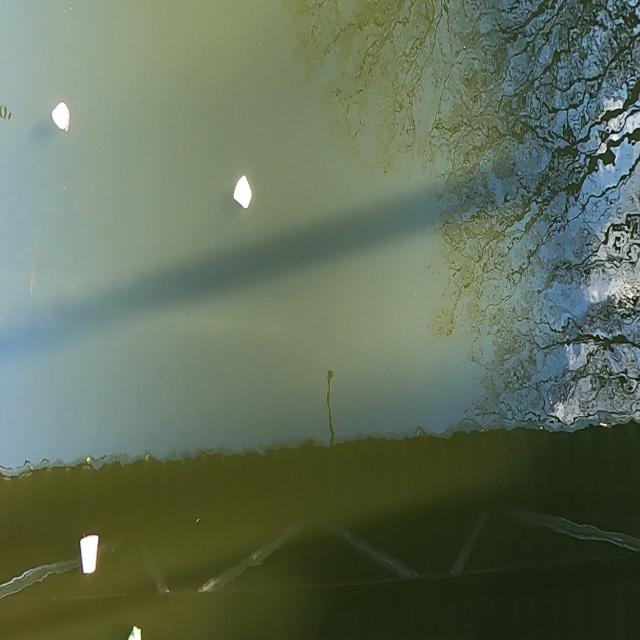Non plastique: (77, 530, 105, 580), (228, 171, 254, 213), (48, 95, 74, 137)
